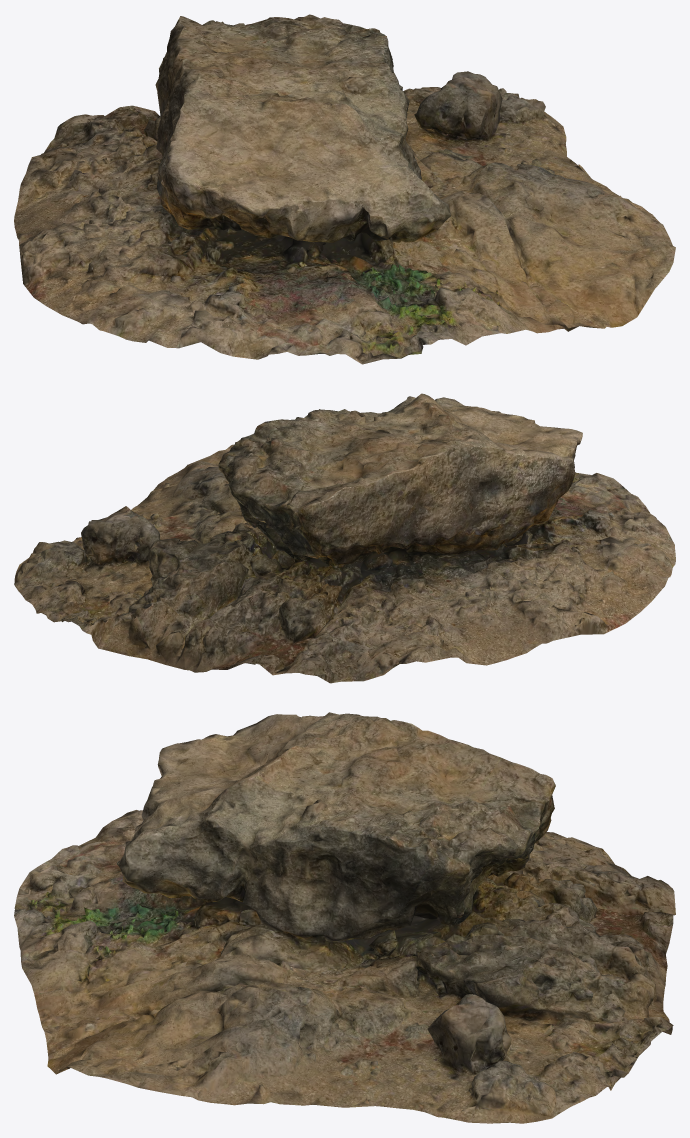
Rendered from coast_rocks_05.glb.
3 views of the same model, one above another, from view 1: azimuth 30°, elevation 25°; view 2: azimuth 150°, elevation 25°; view 3: azimuth 270°, elevation 25° (orthographic). The views are drawn at different scales.
Parts seen in each view (by area): view 1: coast_rocks_05; view 2: coast_rocks_05; view 3: coast_rocks_05.
Boxes of the visible parts, x1,y1,x2,y2 form: coast_rocks_05: (14, 14, 675, 364); coast_rocks_05: (14, 393, 675, 683); coast_rocks_05: (14, 712, 675, 1123).
Bounding box in the file's own units: 4.04 × 1.33 × 3.75.
1 material, 1 textured.
